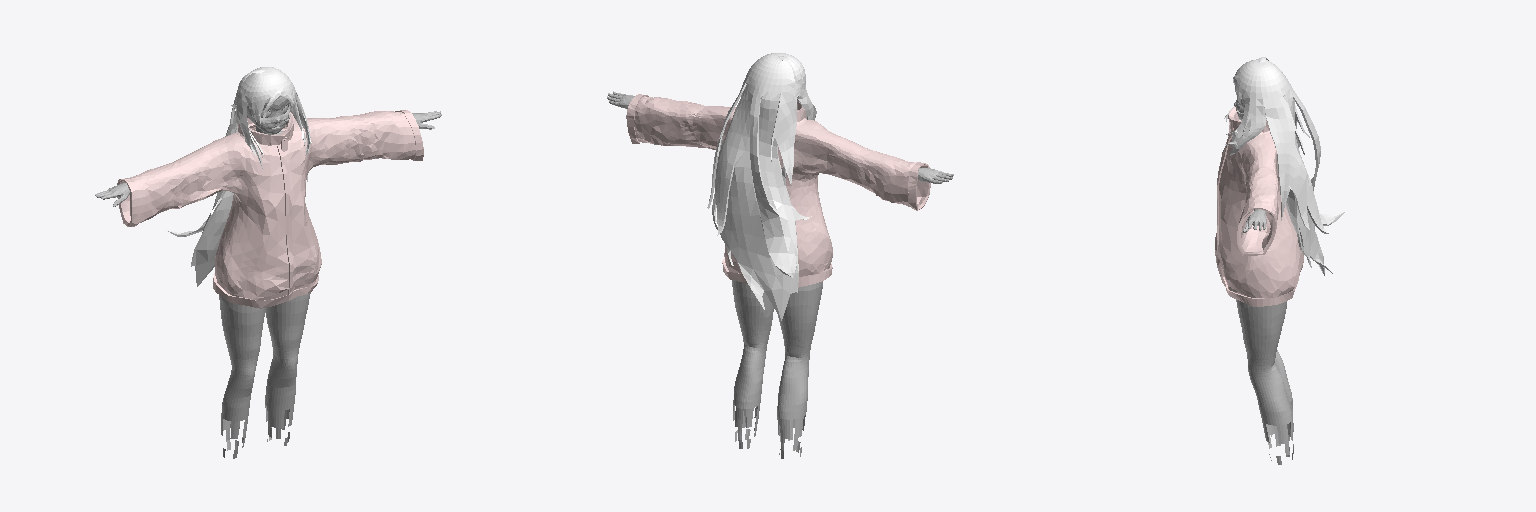
The model's file is beta.obj.
The picture shows the model from 3 angles: view 1: azimuth 30°, elevation 25°; view 2: azimuth 150°, elevation 25°; view 3: azimuth 270°, elevation 25°; orthographic projection.
Parts seen in each view (by area): view 1: hudi, da_body.001, Сфера; view 2: Сфера, hudi, da_body.001; view 3: hudi, Сфера, da_body.001.
Boxes of the visible parts, x1,y1,x2,y2 form: hudi: [117, 110, 423, 308]; da_body.001: [95, 97, 441, 458]; Сфера: [166, 67, 311, 286]; Сфера: [707, 53, 816, 320]; hudi: [626, 94, 930, 287]; da_body.001: [607, 91, 953, 458]; hudi: [1215, 107, 1303, 306]; Сфера: [1224, 57, 1344, 275]; da_body.001: [1234, 86, 1293, 464].
Size of the model in its own units: 16.11 by 17.27 by 5.29.